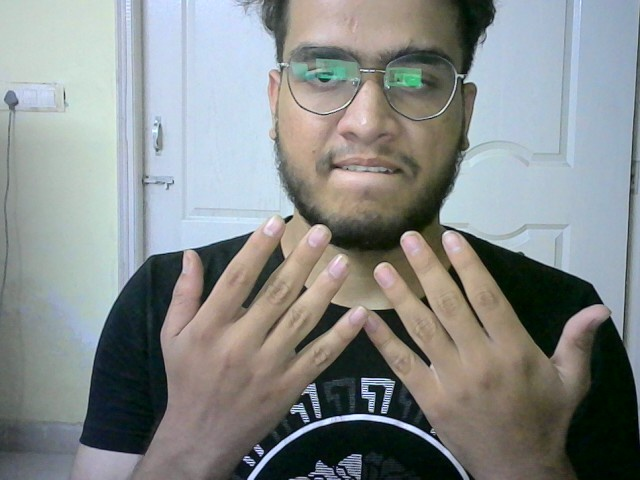Thank You: (156, 209, 615, 450)
